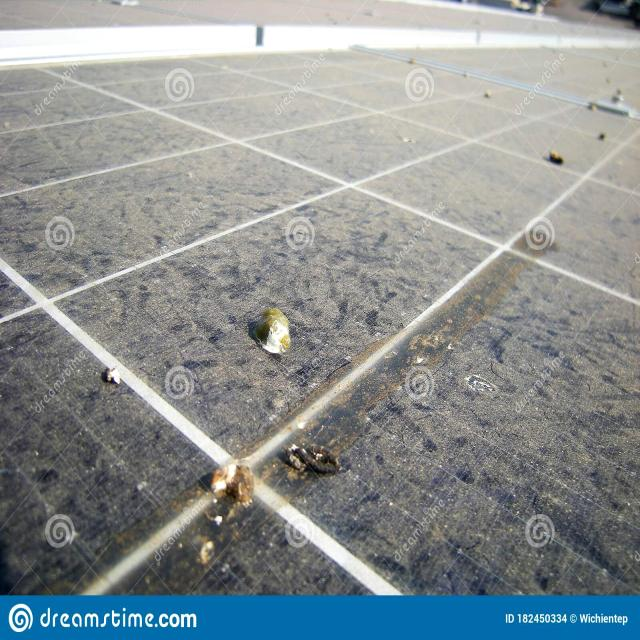bird: (272, 428, 361, 494), (234, 303, 314, 373), (204, 454, 261, 532), (541, 138, 581, 174), (92, 354, 130, 384)
